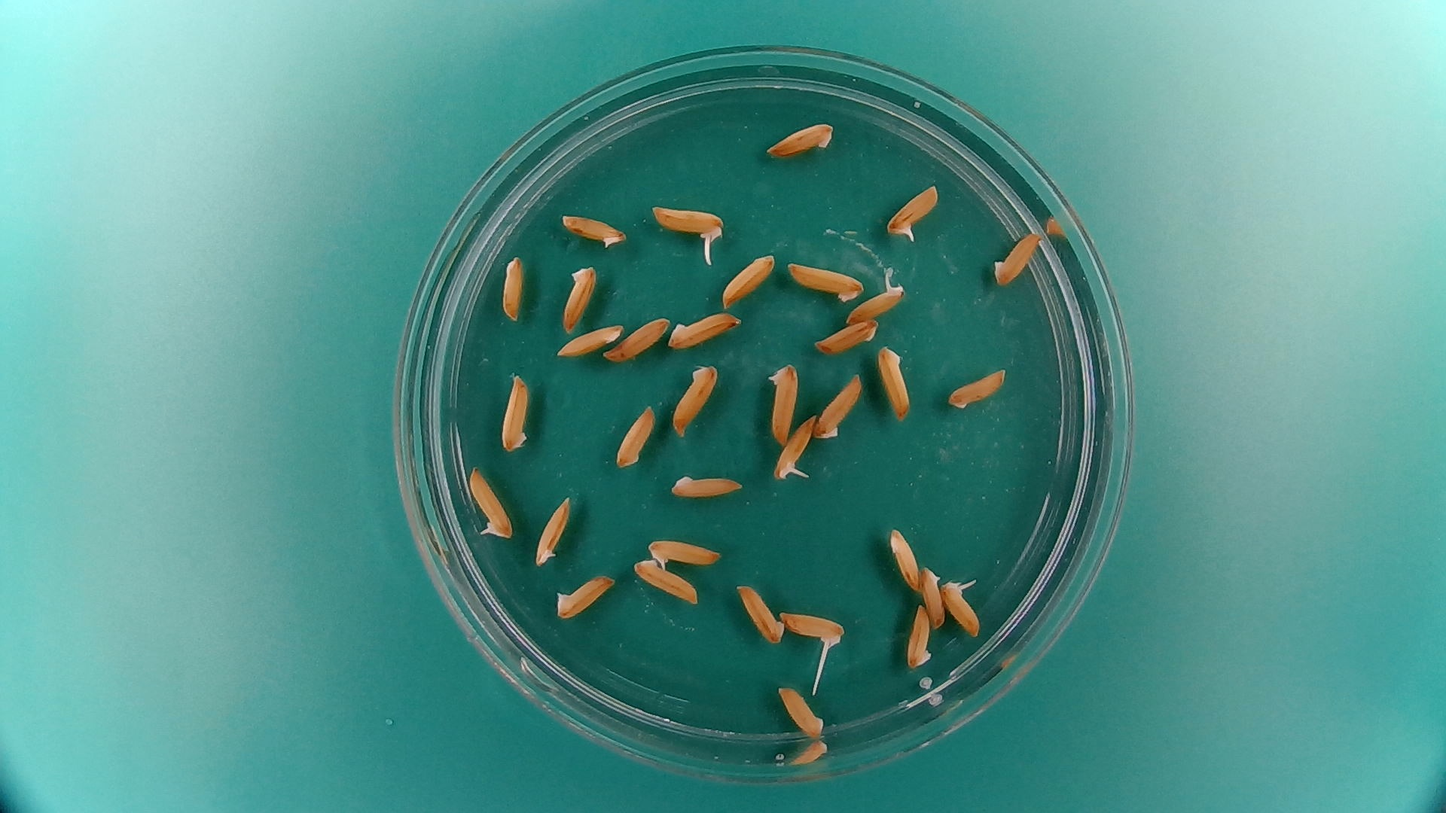no: (529, 492, 581, 577), (670, 360, 721, 437), (814, 371, 866, 443), (783, 259, 866, 303), (629, 556, 700, 607), (733, 580, 786, 647), (602, 314, 672, 364), (499, 363, 533, 463), (667, 309, 744, 351), (558, 258, 599, 336), (613, 400, 659, 469), (874, 341, 913, 422), (554, 319, 629, 361), (553, 571, 616, 621), (991, 228, 1043, 288), (763, 118, 836, 160), (764, 360, 799, 445), (945, 368, 1010, 413), (776, 682, 828, 738), (721, 255, 777, 307), (667, 466, 746, 501), (558, 210, 627, 250), (886, 523, 923, 595), (813, 318, 883, 355), (903, 599, 935, 671), (920, 565, 950, 632), (499, 252, 526, 322)
yes: (466, 463, 515, 542), (652, 200, 728, 245), (884, 181, 941, 239), (773, 409, 815, 485), (844, 274, 907, 324), (643, 534, 724, 571), (941, 574, 984, 638), (782, 607, 848, 647)
